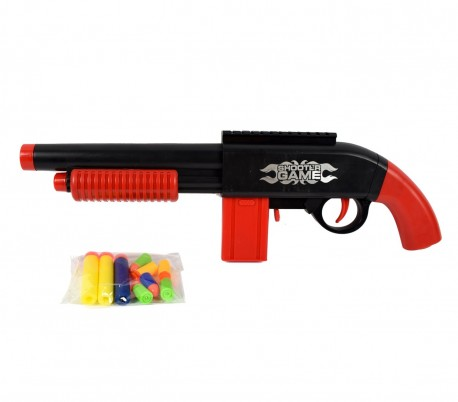Arma Falsa: (12, 127, 458, 267)
